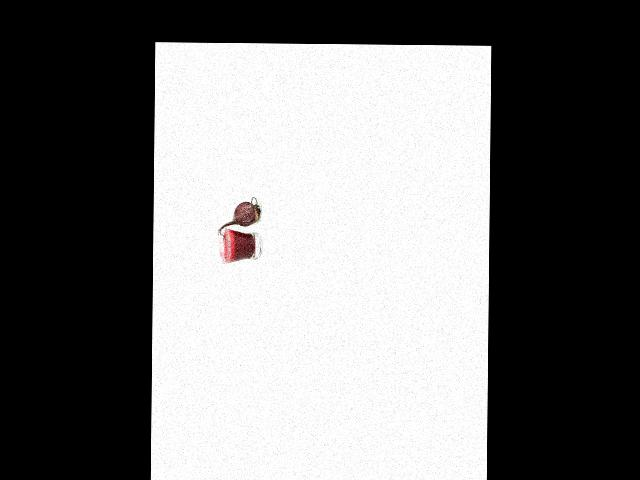beet: (217, 197, 261, 241)
